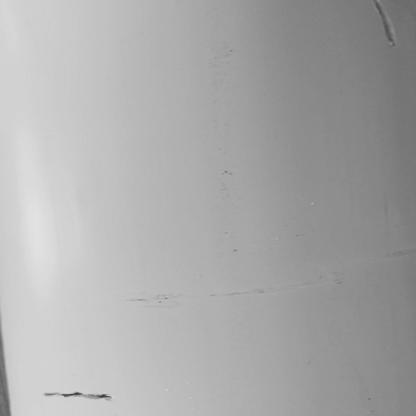fengxi: (43, 391, 113, 401)
sunshang: (370, 1, 401, 49)
